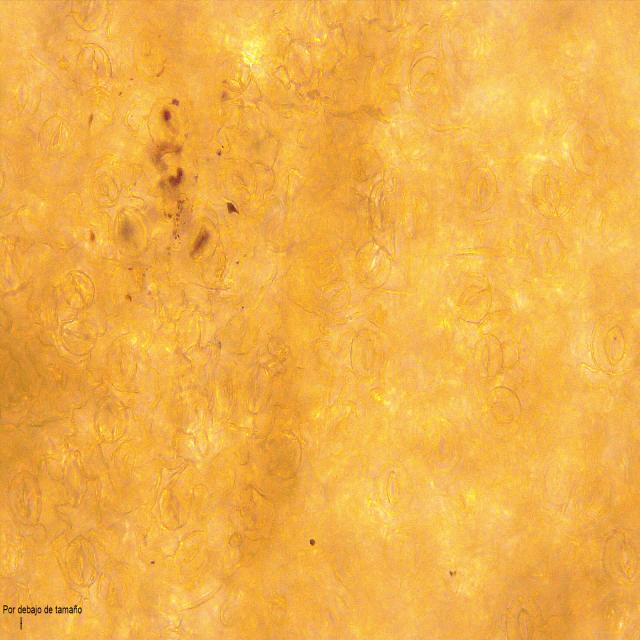Stomata: (589, 313, 639, 377), (147, 97, 190, 154), (0, 67, 43, 123), (600, 527, 640, 587), (421, 418, 461, 476), (532, 163, 572, 220), (7, 468, 42, 529), (452, 272, 493, 324), (483, 386, 522, 440), (112, 206, 150, 260), (375, 461, 412, 516), (569, 123, 606, 177), (353, 241, 392, 292), (264, 430, 303, 481), (407, 57, 446, 107), (483, 385, 522, 434), (504, 593, 544, 640), (64, 534, 98, 588), (367, 178, 399, 235), (73, 42, 113, 87), (462, 166, 501, 212), (222, 157, 259, 205), (351, 328, 385, 379), (185, 217, 221, 265), (36, 116, 74, 161), (173, 532, 210, 578), (94, 394, 128, 444), (472, 332, 504, 382), (586, 200, 620, 247), (109, 339, 139, 390), (531, 228, 564, 274), (59, 318, 98, 356), (472, 333, 504, 379), (159, 484, 191, 528), (60, 270, 96, 308), (70, 0, 110, 33), (285, 41, 313, 85), (90, 171, 120, 206)
